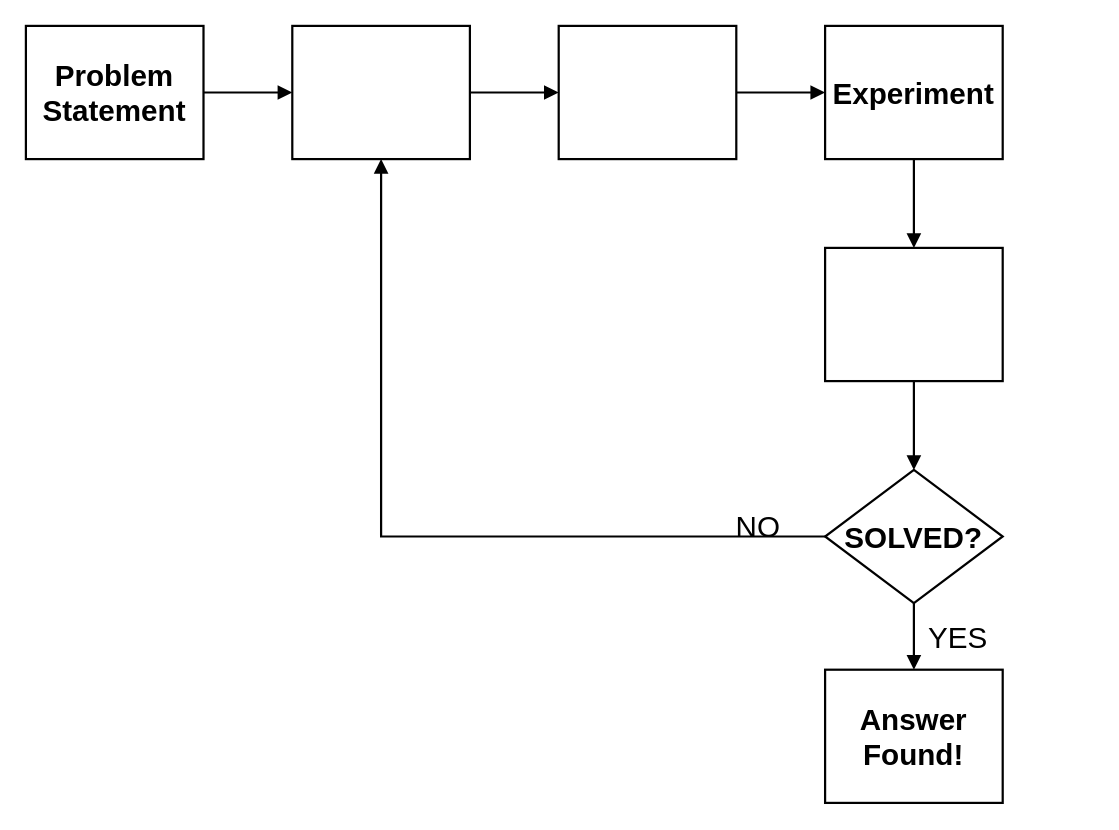
This 1119x830 diagram has some shape labels left out. Each missing label, with the centre of its shape:
Conclusions: [913,314]
Hypothesis: [647,92]
Research: [380,92]
